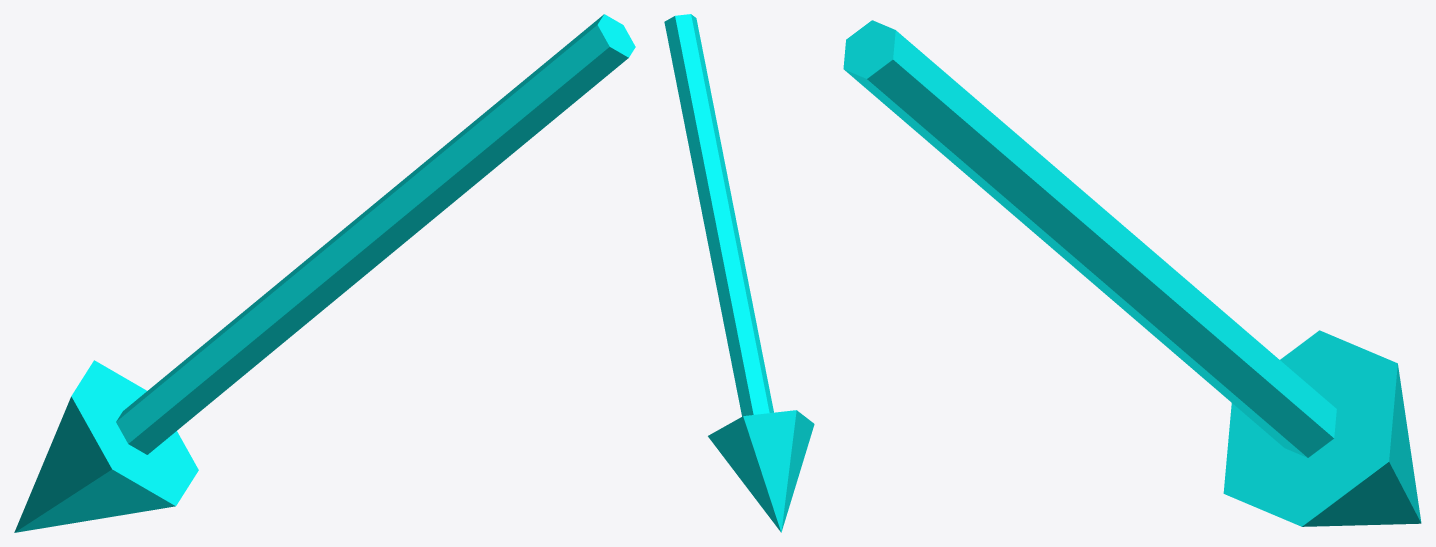
Rendered from arrow452.obj.
The picture shows the model from 3 angles, left to right: view 1: azimuth 30°, elevation 25°; view 2: azimuth 150°, elevation 25°; view 3: azimuth 270°, elevation 25°; orthographic projection. The views are drawn at different scales.
Visible parts, largest first — view 1: pCylinder2; view 2: pCylinder2; view 3: pCylinder2.
Boxes of the visible parts, x1,y1,x2,y2 form: pCylinder2: [14, 14, 635, 532]; pCylinder2: [664, 14, 814, 532]; pCylinder2: [843, 20, 1421, 526].
Size of the model in its own units: 0.2609 by 0.3615 by 0.2609.
